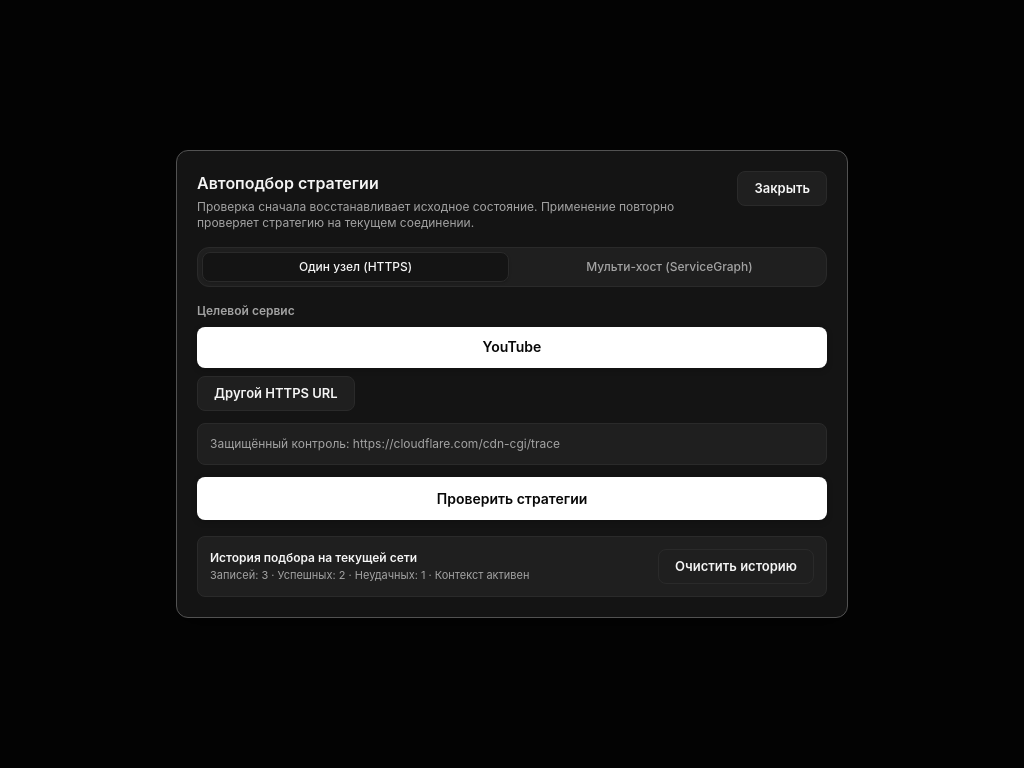
Scenario: primary AutoTune vNext modal › does not offer Apply without a verified backend grant
This screenshot has width=1024, height=768.
Click the button "Проверить стратегии". click: (512, 498)
box: x1=197 y1=477 x2=827 y2=520
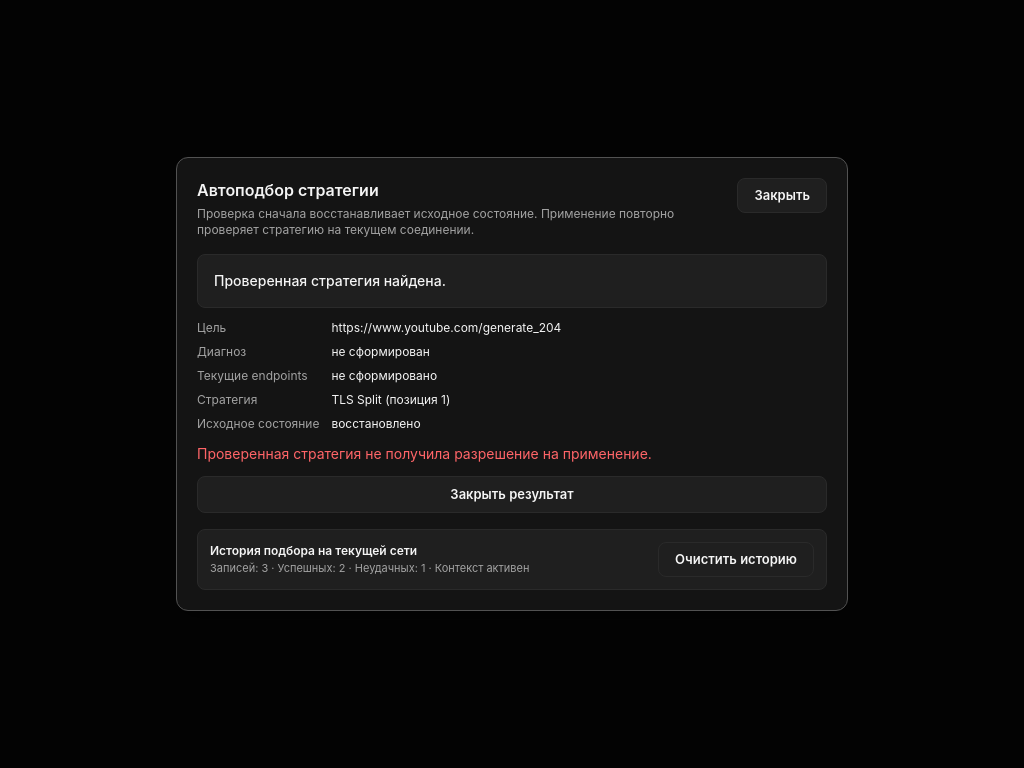
Expected: the text "Проверенная стратегия не получила разрешение на применение." is shown, x1=197 y1=445 x2=652 y2=462
